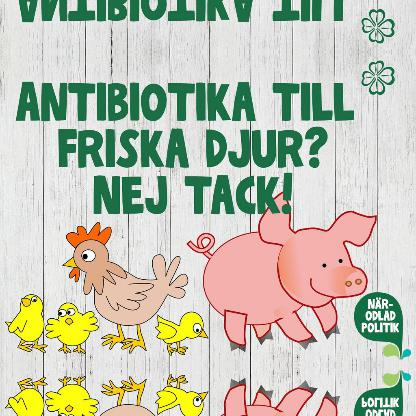Bird: (64, 225, 178, 333), (44, 300, 100, 352), (4, 292, 48, 352), (154, 310, 208, 352), (44, 376, 100, 415), (154, 375, 208, 415), (4, 375, 49, 415)
